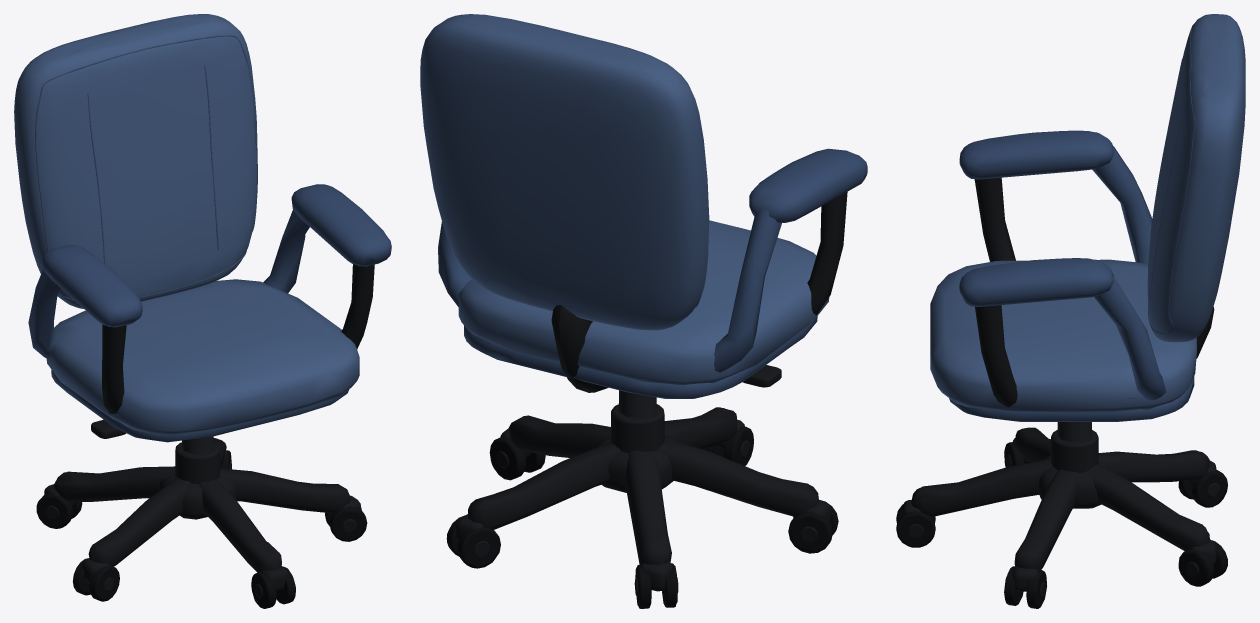
Rendered from office_chair_mobile.glb.
The picture shows the model from 3 angles, left to right: view 1: azimuth 30°, elevation 25°; view 2: azimuth 150°, elevation 25°; view 3: azimuth 270°, elevation 25°; orthographic projection. The views are drawn at different scales.
Parts seen in each view (by area): view 1: Continuous padded backrest_export, Thick seat cushion_export, Left curved blue armrest_export, Right curved blue armrest_export, Splayed leg 2_export, Splayed leg 5_export, Splayed leg 4_export, Splayed leg 1_export, Rounded seat underside shell_export, Right front arm support_export, Right rear arm support_export, Left rear arm support_export (+8 smaller); view 2: Continuous padded backrest_export, Thick seat cushion_export, Splayed leg 5_export, Right curved blue armrest_export, Splayed leg 3_export, Rounded seat underside shell_export, Right rear arm support_export, Splayed leg 4_export, Splayed leg 2_export, Right front arm support_export, Splayed leg 1_export, Backrest mounting spine_export (+8 smaller); view 3: Thick seat cushion_export, Continuous padded backrest_export, Right curved blue armrest_export, Left curved blue armrest_export, Splayed leg 1_export, Splayed leg 3_export, Splayed leg 2_export, Left rear arm support_export, Splayed leg 4_export, Right rear arm support_export, Left front arm support_export, Rounded seat underside shell_export (+10 smaller).
Boxes of the visible parts, x1=… form: Continuous padded backrest_export: x1=14, y1=14, x2=257, y2=308; Thick seat cushion_export: x1=46, y1=279, x2=359, y2=435; Left curved blue armrest_export: x1=291, y1=184, x2=391, y2=266; Right curved blue armrest_export: x1=42, y1=245, x2=142, y2=327; Splayed leg 2_export: x1=220, y1=468, x2=350, y2=513; Splayed leg 5_export: x1=88, y1=477, x2=191, y2=566; Splayed leg 4_export: x1=54, y1=466, x2=175, y2=502; Splayed leg 1_export: x1=198, y1=479, x2=281, y2=572; Rounded seat underside shell_export: x1=51, y1=370, x2=349, y2=442; Right front arm support_export: x1=102, y1=324, x2=126, y2=413; Right rear arm support_export: x1=28, y1=269, x2=61, y2=359; Left rear arm support_export: x1=263, y1=209, x2=309, y2=293; Continuous padded backrest_export: x1=420, y1=14, x2=709, y2=330; Thick seat cushion_export: x1=458, y1=220, x2=829, y2=385; Splayed leg 5_export: x1=658, y1=439, x2=819, y2=516; Right curved blue armrest_export: x1=749, y1=148, x2=867, y2=222; Splayed leg 3_export: x1=468, y1=442, x2=620, y2=529; Rounded seat underside shell_export: x1=464, y1=316, x2=817, y2=398; Right rear arm support_export: x1=714, y1=209, x2=781, y2=372; Splayed leg 4_export: x1=624, y1=450, x2=671, y2=565; Splayed leg 2_export: x1=508, y1=415, x2=610, y2=457; Right front arm support_export: x1=807, y1=191, x2=847, y2=315; Splayed leg 1_export: x1=664, y1=407, x2=736, y2=449; Backrest mounting spine_export: x1=551, y1=305, x2=608, y2=392; Thick seat cushion_export: x1=930, y1=259, x2=1196, y2=412; Continuous padded backrest_export: x1=1147, y1=14, x2=1245, y2=342; Right curved blue armrest_export: x1=959, y1=130, x2=1114, y2=179; Left curved blue armrest_export: x1=959, y1=258, x2=1114, y2=306; Splayed leg 1_export: x1=911, y1=458, x2=1052, y2=516; Splayed leg 3_export: x1=1087, y1=464, x2=1209, y2=551; Splayed leg 2_export: x1=1014, y1=469, x2=1078, y2=570; Left rear arm support_export: x1=1094, y1=275, x2=1166, y2=399; Splayed leg 4_export: x1=1098, y1=450, x2=1209, y2=482; Right rear arm support_export: x1=1092, y1=146, x2=1152, y2=263; Left front arm support_export: x1=975, y1=305, x2=1017, y2=406; Rounded seat underside shell_export: x1=949, y1=376, x2=1194, y2=421.
Size of the model in its own units: 0.5828 by 0.8798 by 0.5698.
